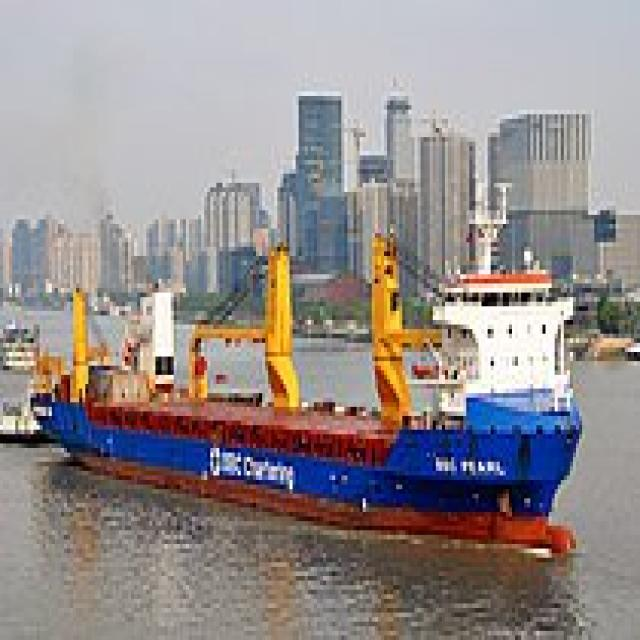Cargo: (21, 160, 582, 553)
